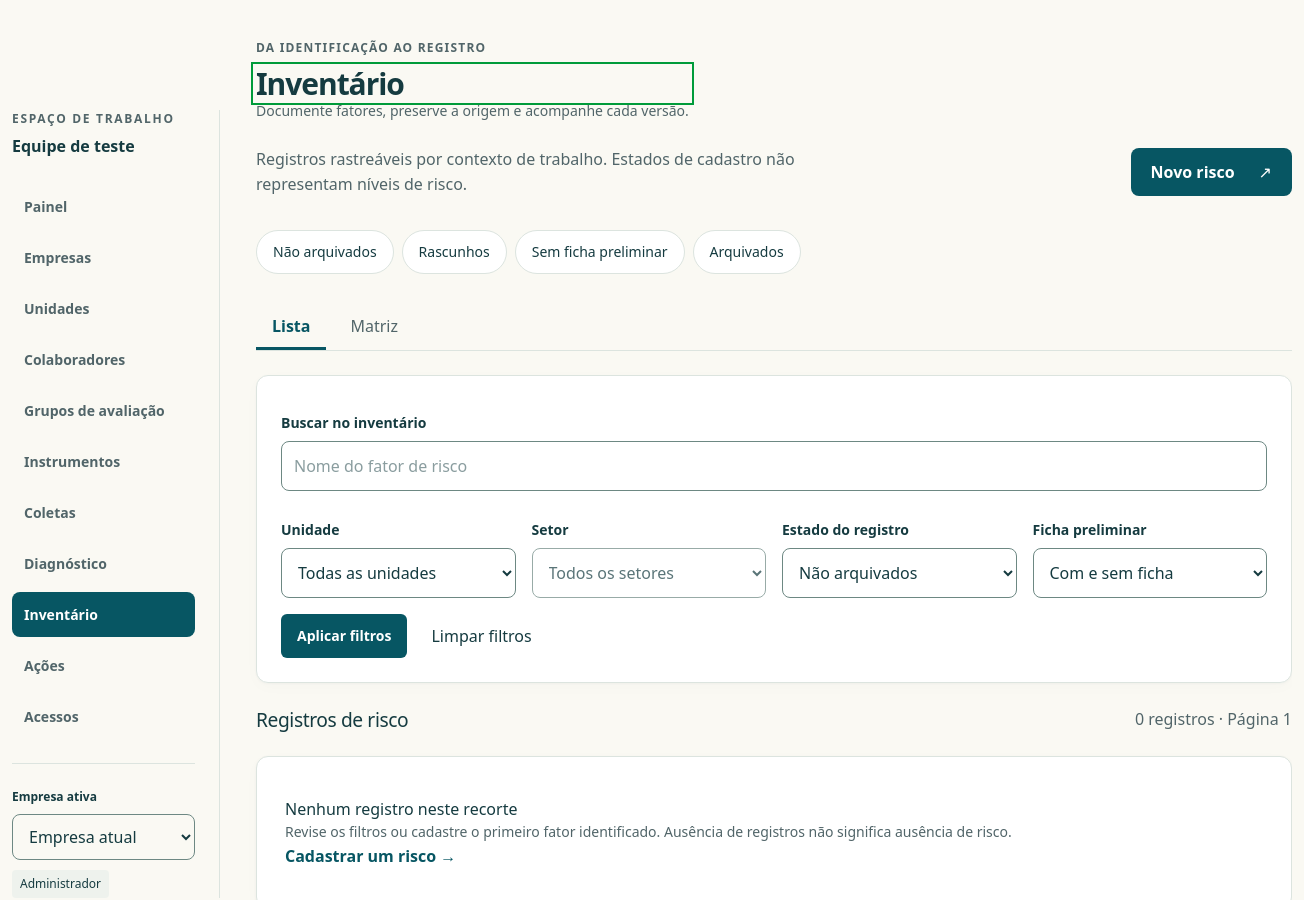
Test case: informa falha 503 ao trocar empresa no inventário sem mudar o contexto
Expected: the heading "Nenhum registro neste recorte" is shown, x1=285 y1=798 x2=517 y2=820
Select "Outra empresa" in the dropdown labelled "Empresa ativa" at (104, 837), box x1=12 y1=814 x2=195 y2=860
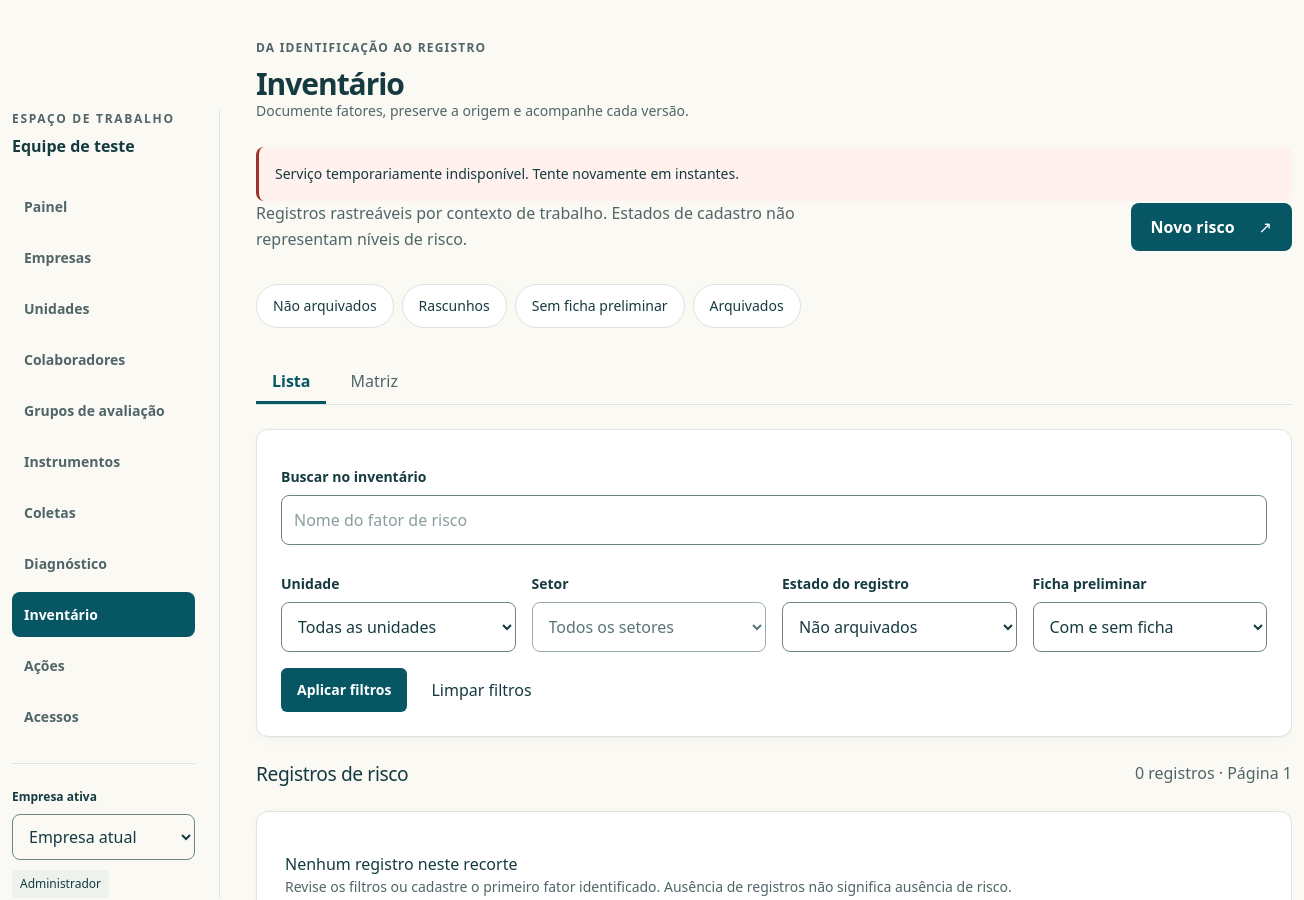
Expected: the heading "Inventário" is shown, x1=256 y1=63 x2=404 y2=104
Result: the message shows "Serviço temporariamente indisponível" at x1=275 y1=164 x2=739 y2=183
